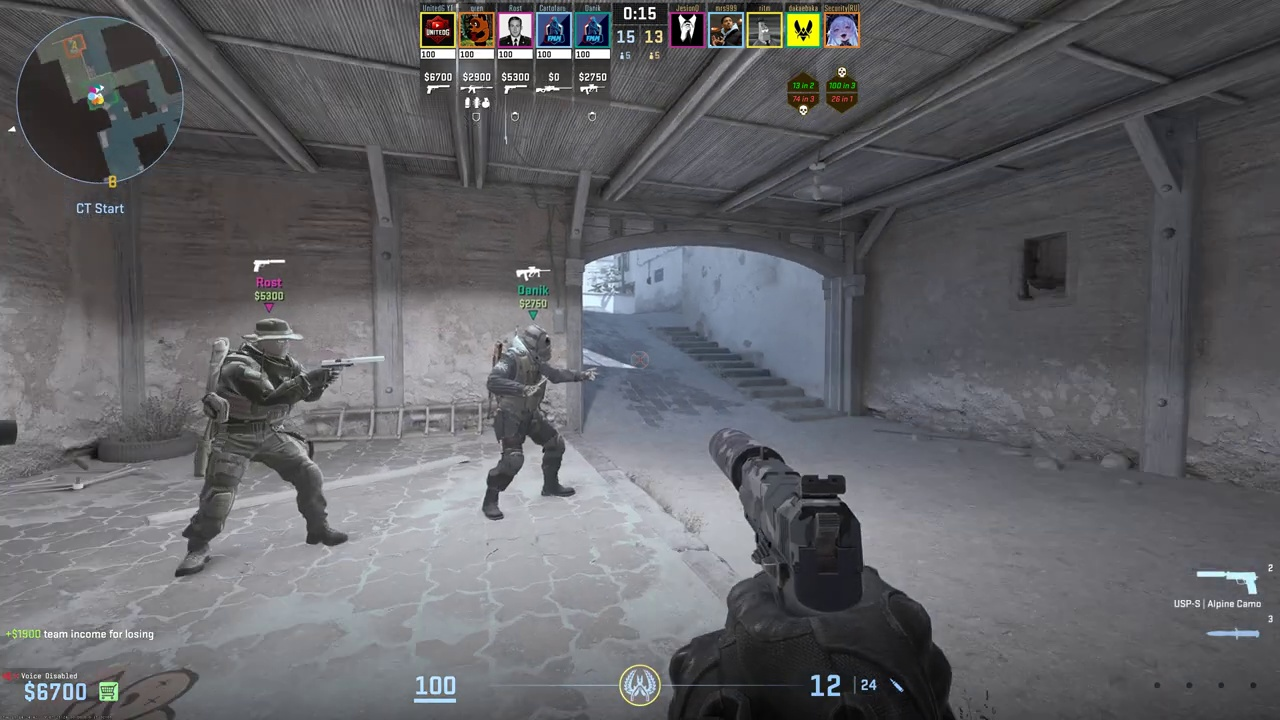CT: (178, 321, 354, 574), (476, 322, 569, 518)
